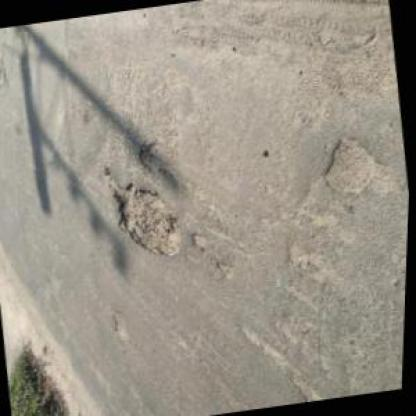pothole: (100, 158, 190, 268), (318, 128, 398, 205), (136, 136, 182, 184), (291, 372, 332, 404), (110, 306, 134, 344)
